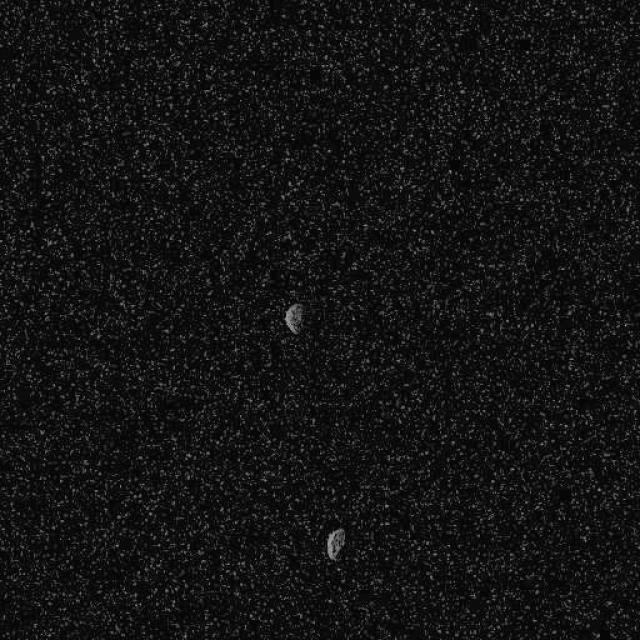D2: (325, 526, 345, 562), (284, 301, 304, 335)
